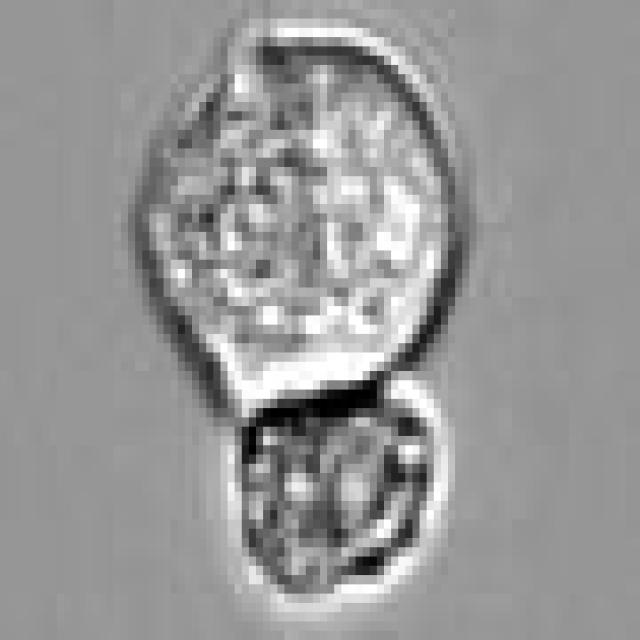Cancer Cell: (142, 28, 470, 399)
WBC: (235, 371, 441, 594)
